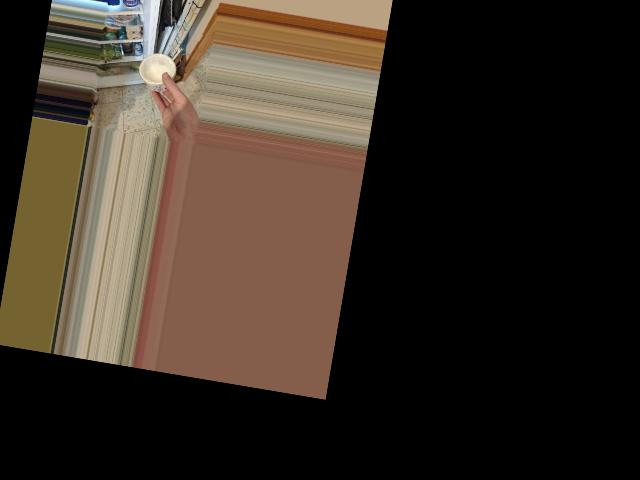cotage: (142, 50, 180, 94)
